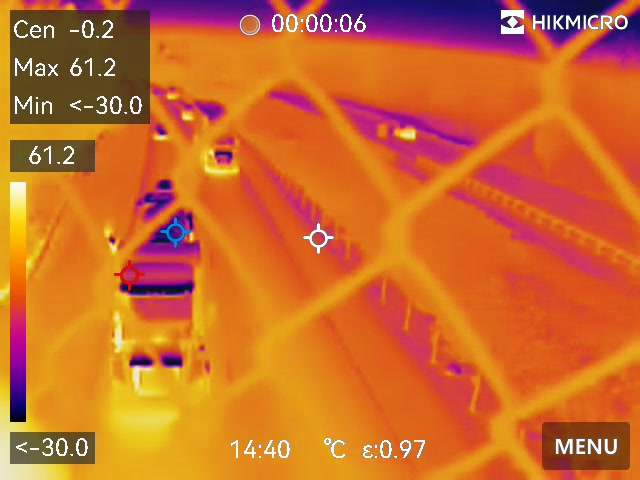heavyTruck: (96, 178, 223, 413), (187, 95, 245, 178)
